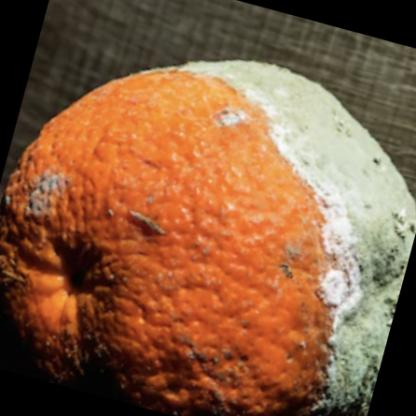rotten: (1, 61, 416, 416)
